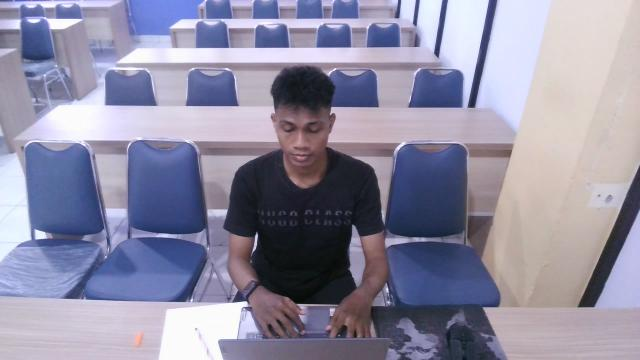Normal_Focus: (210, 59, 401, 341)
